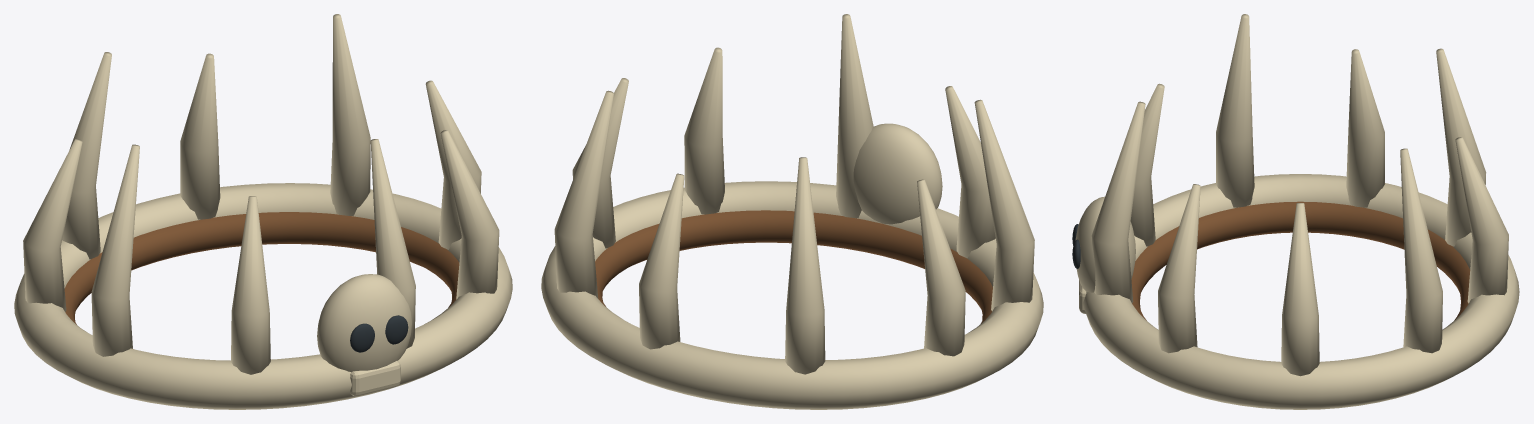
The model's file is bone-crown.glb.
3 views of the same model, side by side, from view 1: azimuth 30°, elevation 25°; view 2: azimuth 150°, elevation 25°; view 3: azimuth 270°, elevation 25° (orthographic). The views are drawn at different scales.
Parts seen in each view (by area): view 1: Ivory crown foundation, Leather crown lining, Skull brow ornament, Swept crown bone.005, Swept crown bone.001, Swept crown bone.006, Swept crown bone.004, Swept crown bone.008, Swept crown bone.002, Swept crown bone.003, Swept crown bone.007, Swept crown bone (+3 smaller); view 2: Ivory crown foundation, Leather crown lining, Skull brow ornament, Swept crown bone.003, Swept crown bone.005, Swept crown bone.001, Swept crown bone.004, Swept crown bone.002, Swept crown bone.008, Swept crown bone.007, Swept crown bone.006, Swept crown bone; view 3: Ivory crown foundation, Leather crown lining, Swept crown bone.001, Swept crown bone.007, Swept crown bone.005, Swept crown bone, Swept crown bone.008, Swept crown bone.002, Swept crown bone.004, Swept crown bone.003, Swept crown bone.006, Skull brow ornament.
Boxes of the visible parts, x1,y1,x2,y2 form: Ivory crown foundation: (14, 183, 512, 409); Leather crown lining: (64, 212, 459, 324); Skull brow ornament: (317, 274, 412, 372); Swept crown bone.005: (91, 144, 139, 356); Swept crown bone.001: (330, 14, 370, 215); Swept crown bone.006: (231, 196, 270, 374); Swept crown bone.004: (23, 139, 82, 311); Swept crown bone.008: (440, 130, 499, 299); Swept crown bone.002: (180, 53, 220, 219); Swept crown bone.003: (62, 52, 111, 259); Swept crown bone.007: (370, 139, 415, 348); Swept crown bone: (425, 80, 481, 249); Ivory crown foundation: (541, 181, 1043, 409); Leather crown lining: (595, 210, 992, 323); Skull brow ornament: (853, 123, 942, 224); Swept crown bone.003: (785, 157, 825, 374); Swept crown bone.005: (974, 99, 1034, 311); Swept crown bone.001: (554, 90, 613, 298); Swept crown bone.004: (917, 179, 965, 356); Swept crown bone.002: (639, 173, 684, 349); Swept crown bone.008: (684, 47, 724, 214); Swept crown bone.007: (836, 14, 873, 218); Swept crown bone.006: (945, 86, 995, 258); Swept crown bone: (572, 78, 628, 248); Ivory crown foundation: (1083, 174, 1519, 409); Leather crown lining: (1131, 201, 1470, 320); Swept crown bone.001: (1400, 148, 1442, 353); Swept crown bone.007: (1091, 101, 1145, 303); Swept crown bone.005: (1216, 14, 1254, 207); Swept crown bone: (1281, 203, 1319, 376); Swept crown bone.008: (1158, 184, 1200, 353); Swept crown bone.002: (1455, 137, 1508, 303); Swept crown bone.004: (1346, 49, 1384, 207); Swept crown bone.003: (1436, 48, 1486, 246); Swept crown bone.006: (1130, 83, 1164, 246); Skull brow ornament: (1075, 196, 1135, 292).
Bounding box in the file's own units: 0.886 × 0.4521 × 0.802.
